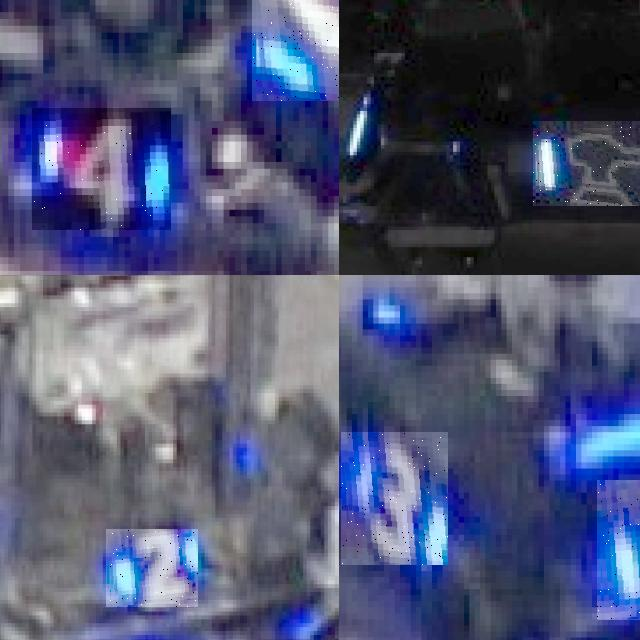B2: (106, 530, 198, 608)
B3: (341, 432, 448, 565), (597, 480, 640, 619)
B4: (32, 108, 171, 230), (252, 0, 339, 101)
Bs: (532, 121, 640, 206)
